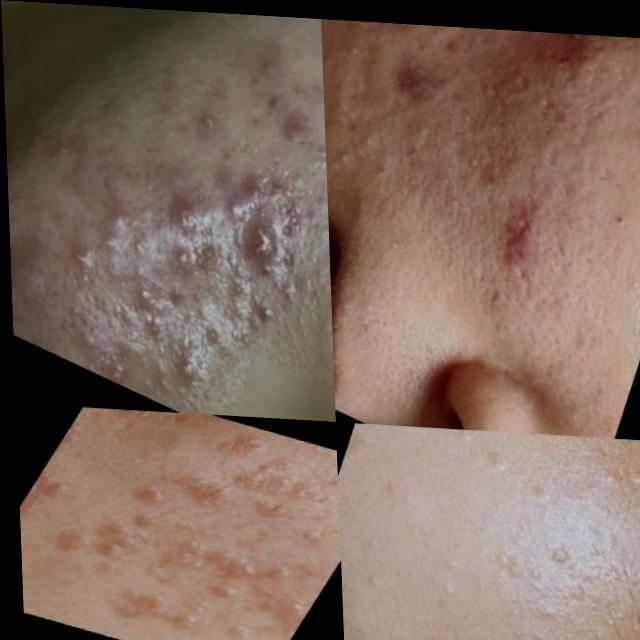8: (141, 166, 225, 252), (224, 195, 297, 288), (249, 80, 323, 151), (226, 148, 276, 209)
9: (109, 263, 186, 352), (150, 330, 216, 391), (52, 220, 104, 278)
blackheads: (470, 155, 555, 267), (522, 25, 615, 93), (373, 17, 438, 104)
